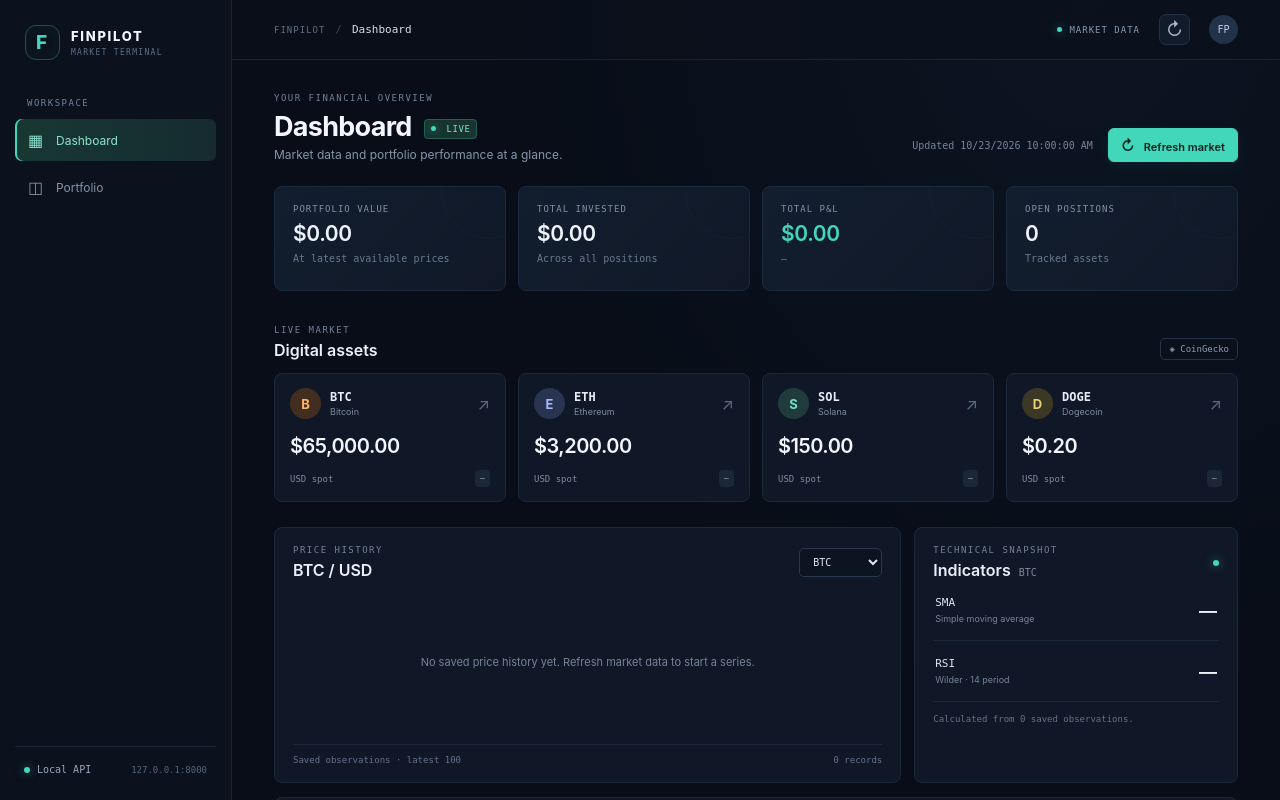
Scenario: FinPilot dashboard › shows an empty portfolio state
Click the button "◫ Portfolio".
click(116, 187)  # box [15,166,216,208]
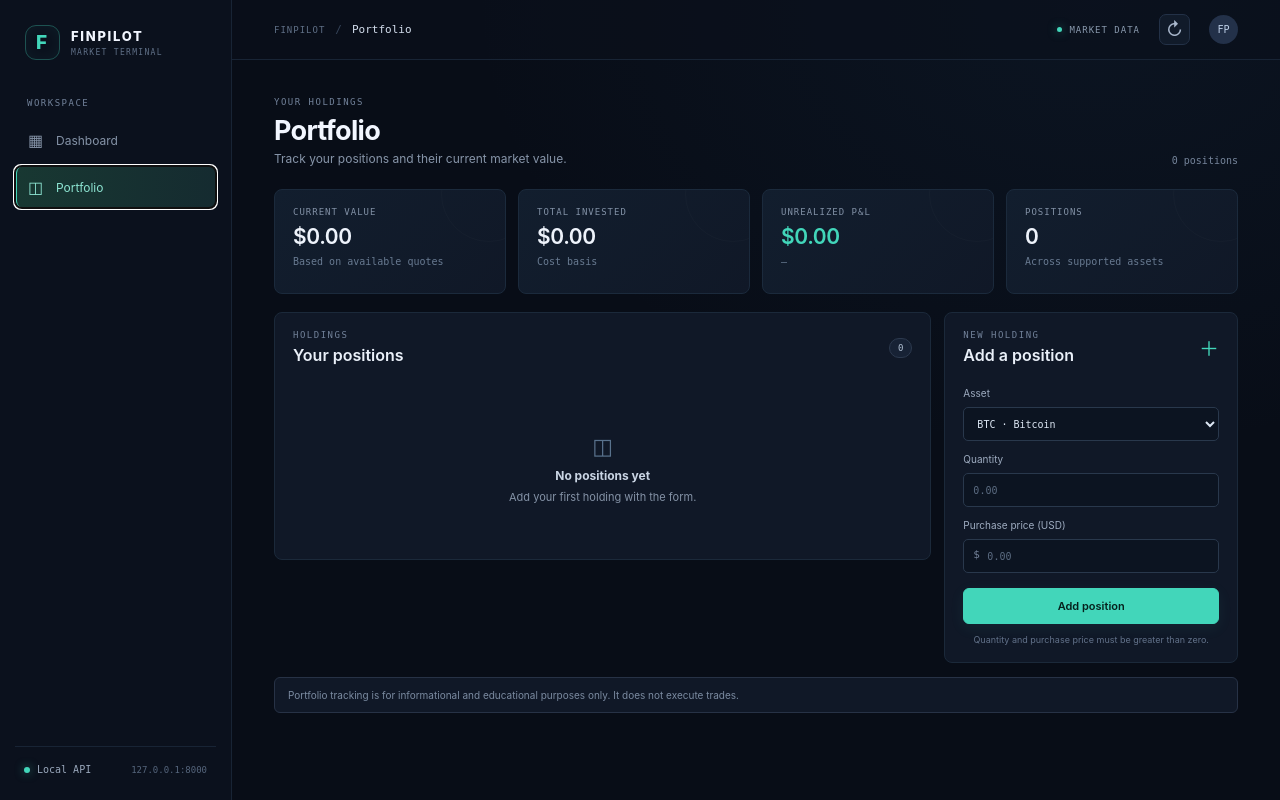
Expected: the text "No positions yet" is shown, [555,468,650,482]
Expected: the heading "Your positions" is shown, [293,345,404,365]
